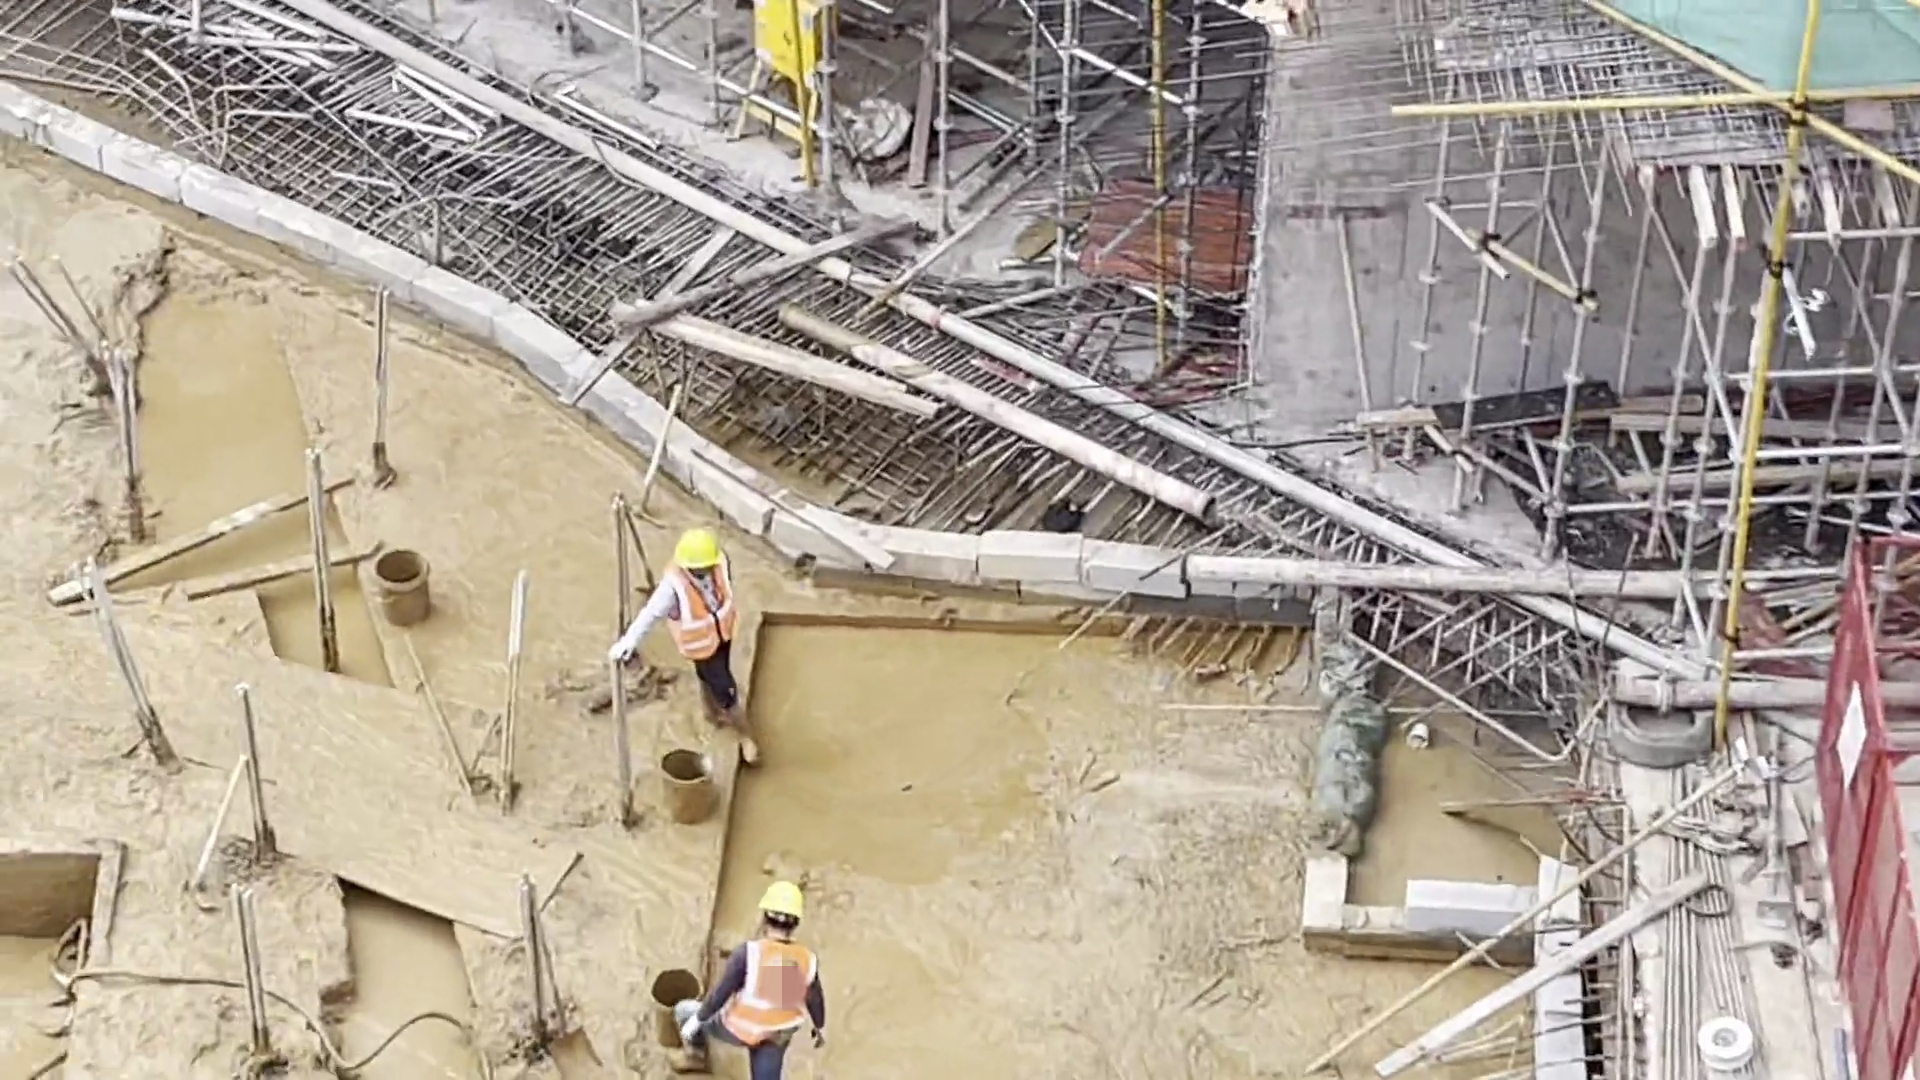ebox: (750, 1, 833, 87)
fence: (1777, 548, 1920, 1080)
helmet: (678, 526, 723, 571), (760, 880, 806, 922)
person: (610, 527, 757, 764), (679, 874, 821, 1080)
vest: (731, 931, 822, 1038), (662, 564, 737, 661)
